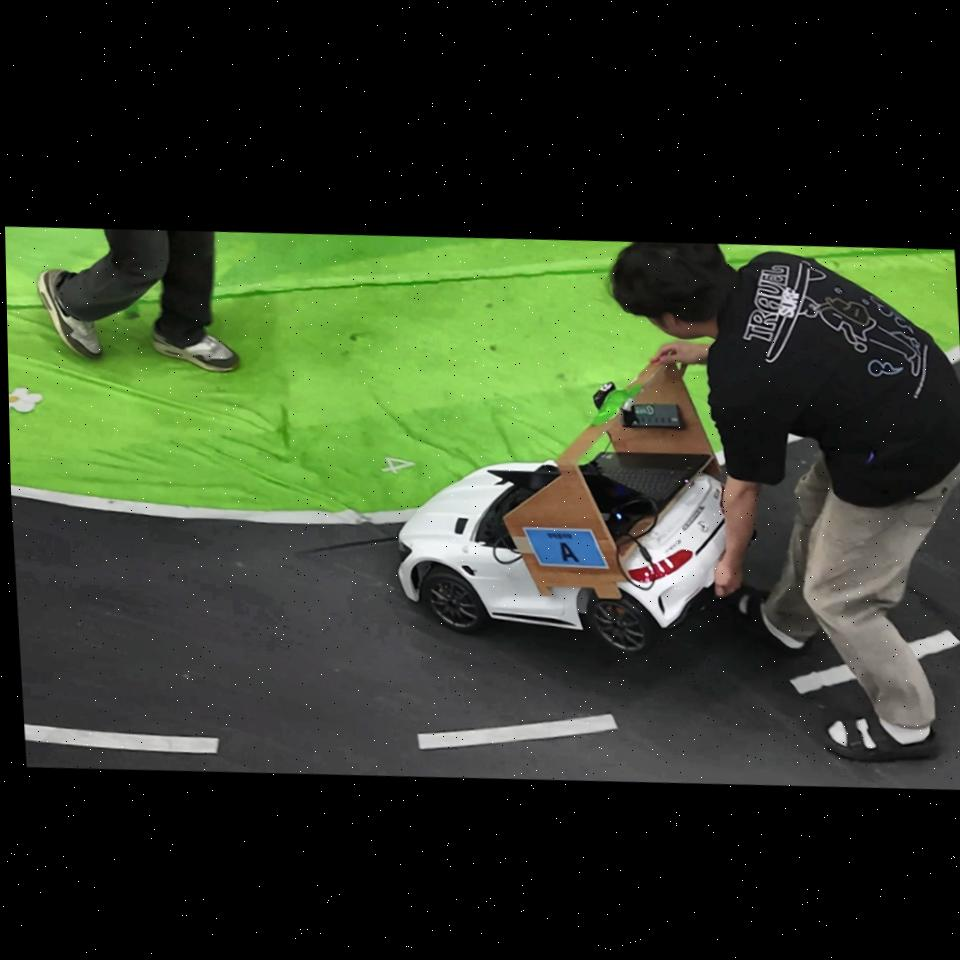broken_line: (418, 714, 617, 750), (24, 724, 219, 754), (789, 664, 855, 694), (907, 630, 960, 659)
